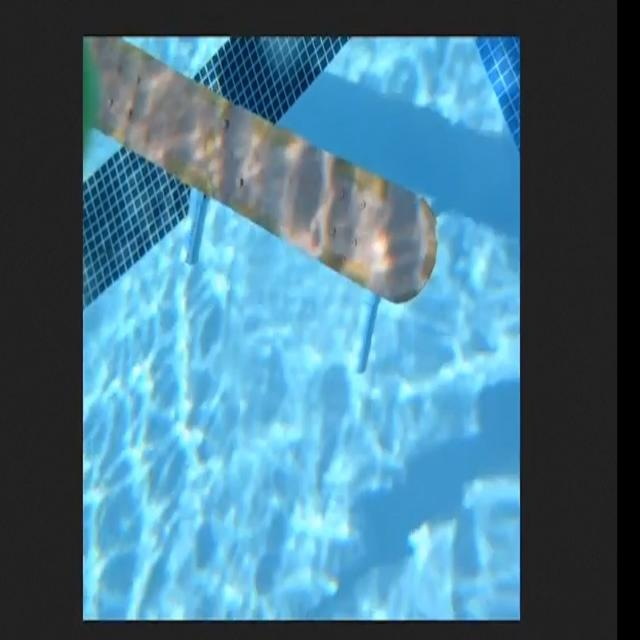Path: (86, 36, 440, 322)
